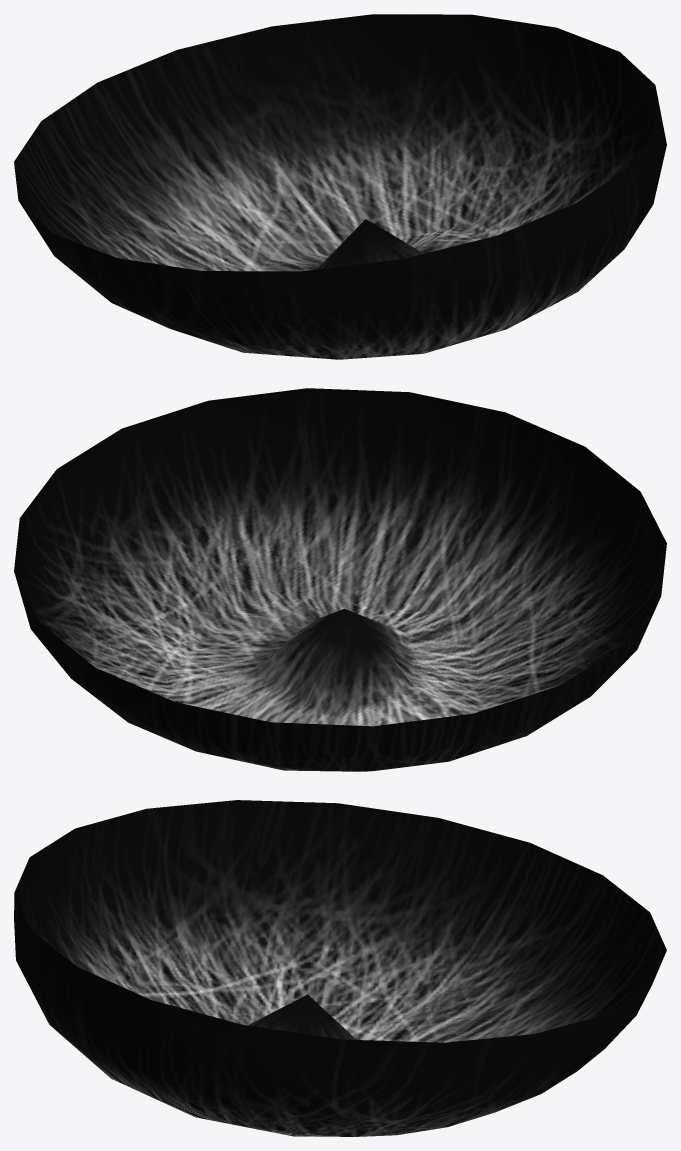
File: MIRKWOOD_SB_998.fbx
The picture shows the model from 3 angles, top to bottom: view 1: azimuth 30°, elevation 25°; view 2: azimuth 150°, elevation 25°; view 3: azimuth 270°, elevation 25°; orthographic projection.
Visible parts, largest first — view 1: MIRKWOOD_SB_998; view 2: MIRKWOOD_SB_998; view 3: MIRKWOOD_SB_998.
Boxes of the visible parts, <box> form: MIRKWOOD_SB_998: <box>14,14,666,359</box>; MIRKWOOD_SB_998: <box>14,388,666,771</box>; MIRKWOOD_SB_998: <box>14,800,666,1136</box>.
Bounding box in the file's own units: 178495 × 58704 × 177578.
1 material, 1 textured.
